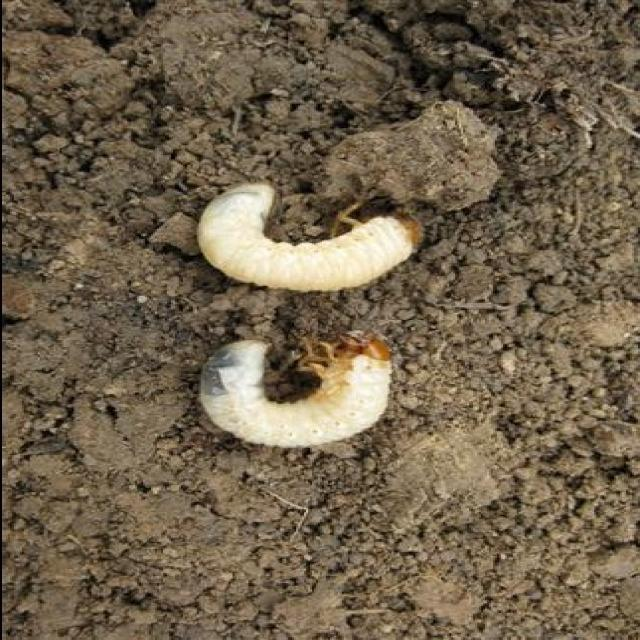grub: (201, 183, 413, 305), (204, 331, 391, 453)
